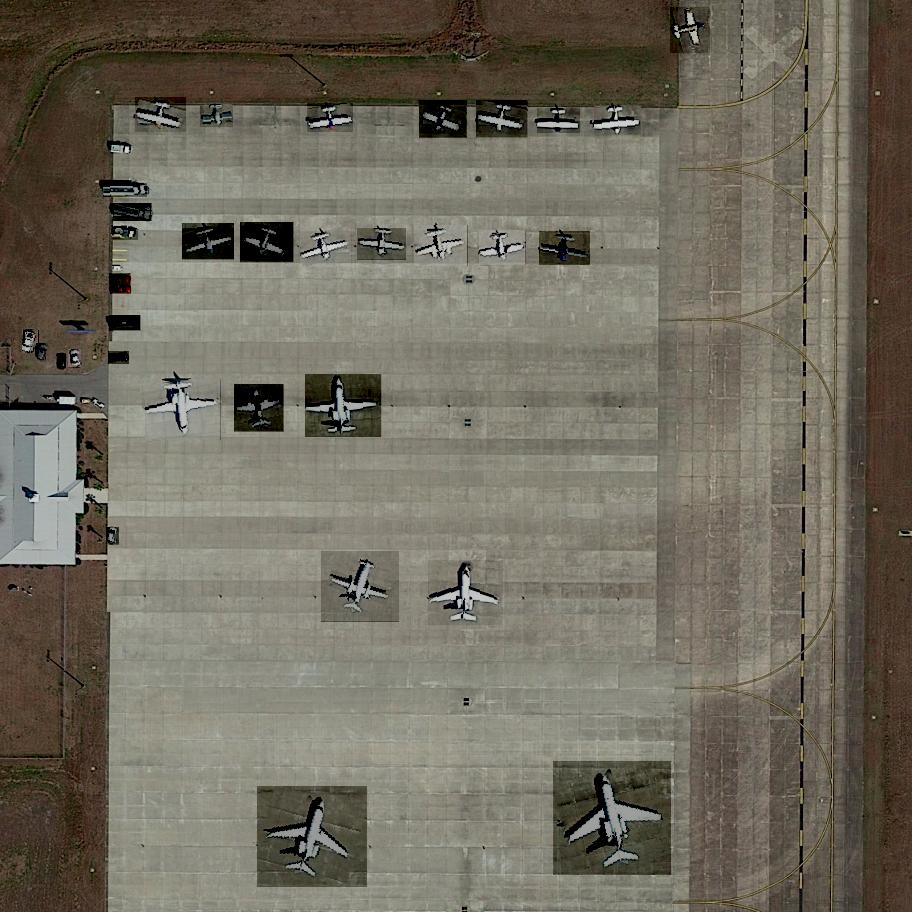large-vehicle: (113, 204, 153, 223), (103, 184, 146, 198), (112, 229, 139, 241)
plane: (554, 761, 672, 876), (255, 786, 368, 889), (321, 551, 400, 625), (427, 560, 505, 626), (142, 380, 225, 441), (305, 374, 383, 438), (234, 384, 285, 432), (240, 222, 294, 266), (414, 225, 470, 267), (182, 223, 237, 262), (299, 227, 353, 266), (474, 100, 528, 139), (135, 97, 187, 134), (670, 8, 711, 54), (420, 100, 467, 140), (477, 230, 529, 266), (539, 231, 591, 265), (357, 228, 407, 260), (593, 106, 643, 138), (307, 103, 353, 133), (538, 108, 581, 134), (201, 105, 235, 129)
small-vehicle: (109, 316, 142, 332), (23, 330, 40, 354), (34, 343, 51, 364), (108, 351, 130, 365), (68, 349, 82, 369), (109, 273, 131, 285), (107, 528, 120, 546), (110, 285, 131, 294), (57, 353, 66, 369)
